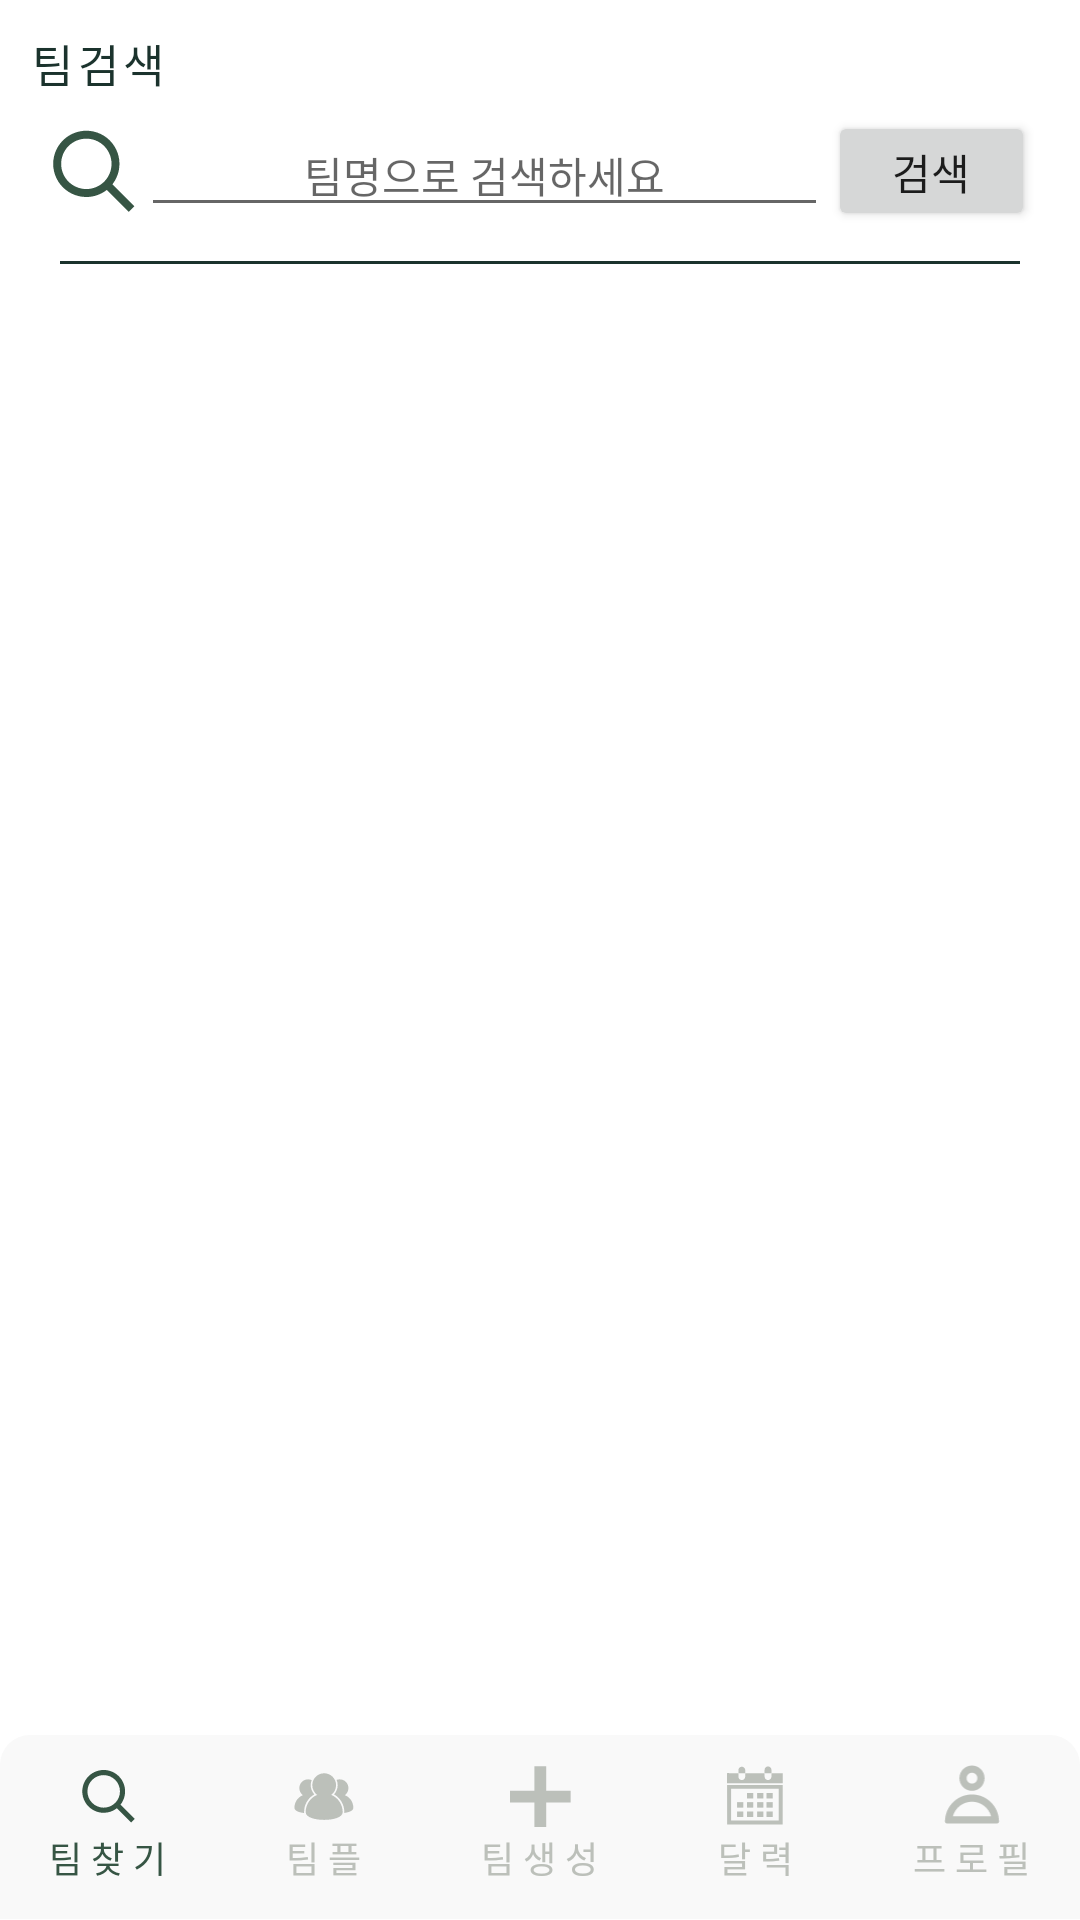

Screen size 1080px×1920px. Icon name, then its box in pixels as detection(x1, y1, x2, y2):
plus: detection(510, 1766, 571, 1827)
